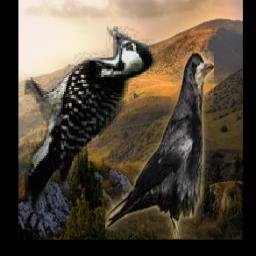Crow: (105, 53, 214, 240)
Woodpecker: (25, 26, 156, 212)
